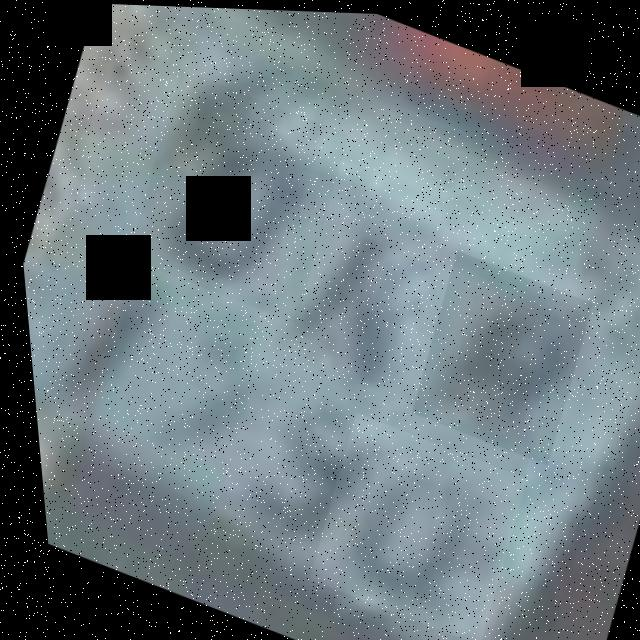0: (287, 409, 530, 640)
5: (188, 353, 403, 566)
B: (393, 246, 599, 464)
N: (231, 166, 471, 416)
U: (110, 66, 359, 324)
